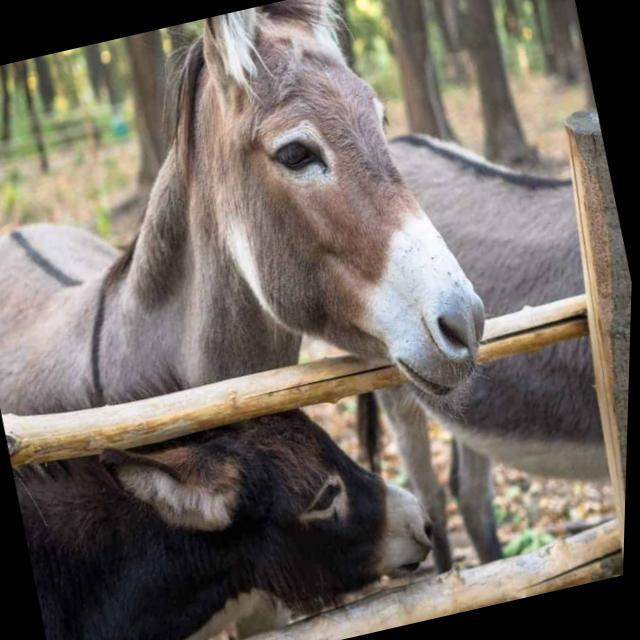Donkey: (0, 0, 541, 640), (124, 0, 536, 466)
